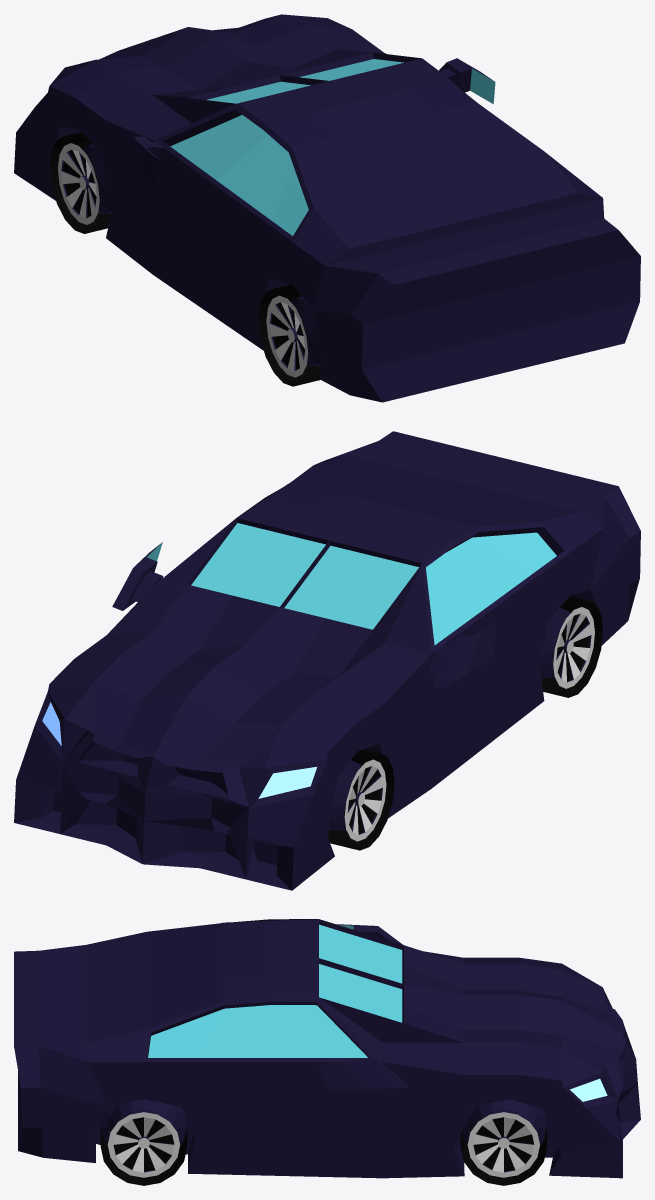
The model's file is Car.fbx.
3 views of the same model, one above another, from view 1: azimuth 30°, elevation 25°; view 2: azimuth 150°, elevation 25°; view 3: azimuth 270°, elevation 25° (orthographic). The views are drawn at different scales.
Visible parts, largest first — view 1: Cube; view 2: Cube; view 3: Cube.
Part boxes in pixels (x1=…): Cube: x1=14, y1=14, x2=640, y2=402; Cube: x1=14, y1=431, x2=640, y2=890; Cube: x1=14, y1=919, x2=640, y2=1185.
Bounding box in the file's own units: 246 × 133 × 456.
